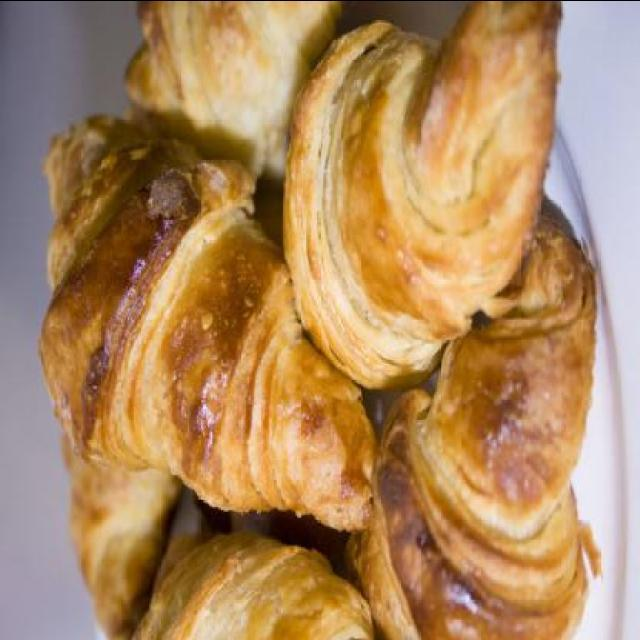Croissant: (35, 114, 382, 640), (342, 212, 600, 640), (282, 11, 560, 398), (121, 1, 345, 190), (126, 529, 378, 640), (61, 443, 182, 640)
